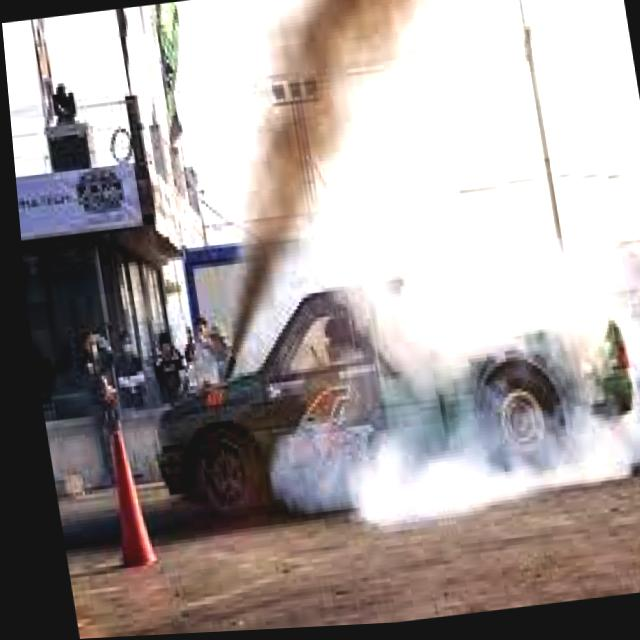no_helmet: (147, 0, 472, 386), (309, 218, 640, 525)
